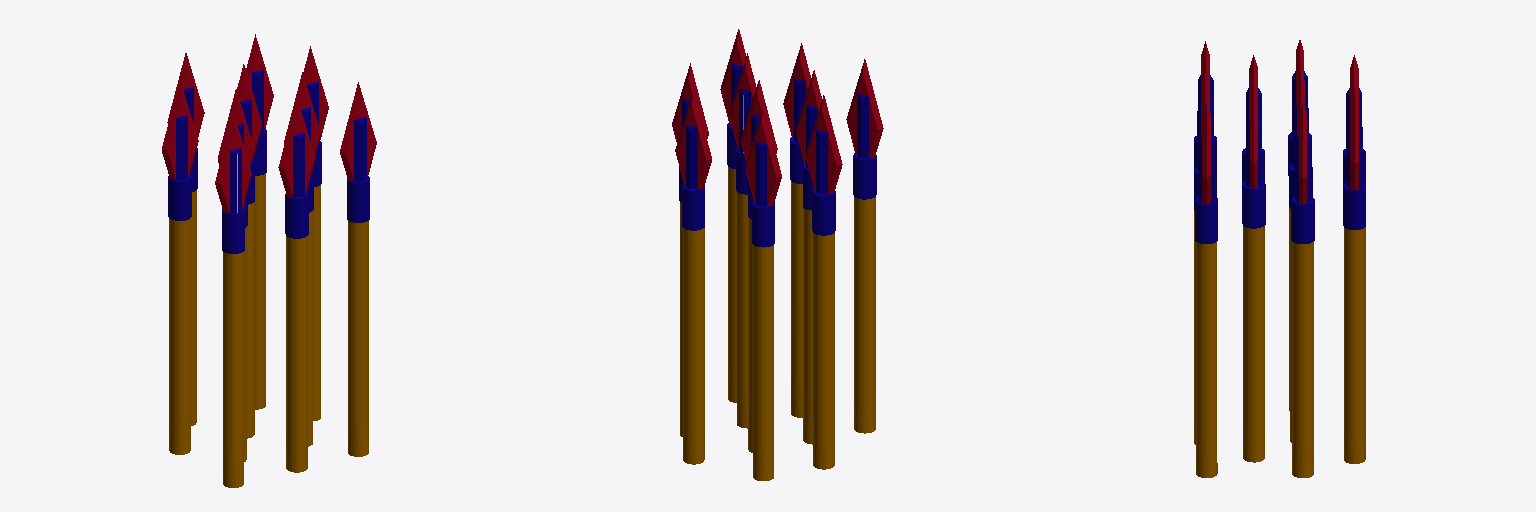
The model's file is spearsobj.obj.
The picture shows the model from 3 angles: view 1: azimuth 30°, elevation 25°; view 2: azimuth 150°, elevation 25°; view 3: azimuth 270°, elevation 25°; orthographic projection.
Parts seen in each view (by area): view 1: Spear.001_Spear.004; view 2: Spear.001_Spear.004; view 3: Spear.001_Spear.004.
Part boxes in pixels (x1,y1,x2,y2): Spear.001_Spear.004: (162, 34, 376, 487); Spear.001_Spear.004: (672, 29, 883, 480); Spear.001_Spear.004: (1194, 40, 1365, 477).
Size of the model in its own units: 4.54 by 9.51 by 4.01.